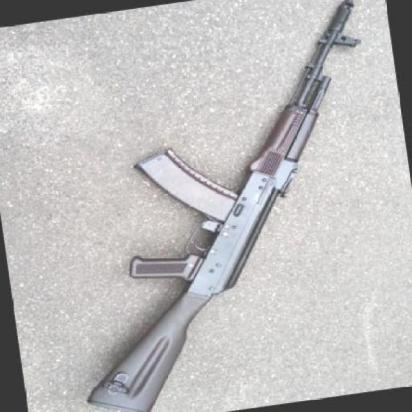Gun: (26, 0, 412, 412)
